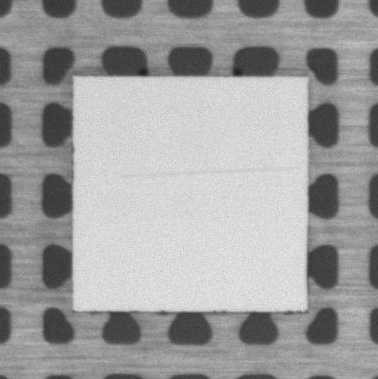DIE_CRACK: (123, 168, 297, 176)
